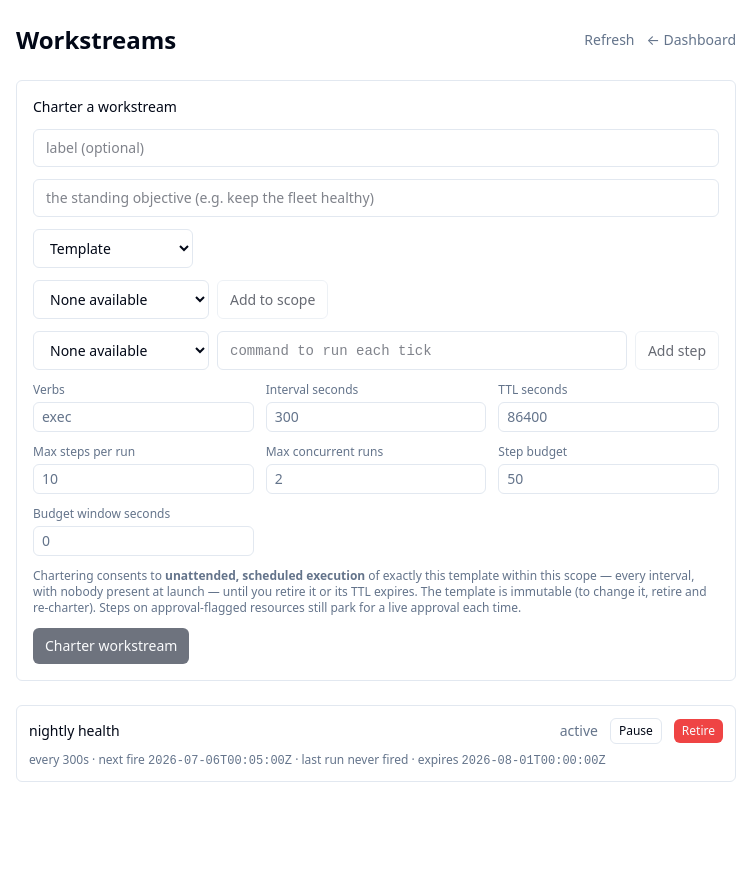
Scenario: Workstreams route › renders the adaptive charter's kind badge + composer, and its plan-request history (open/submitted/expired)
The image size is (753, 893).
Step 1. Click the button "nightly health" → (74, 731), box [29,721,120,741]
(page scrolled)
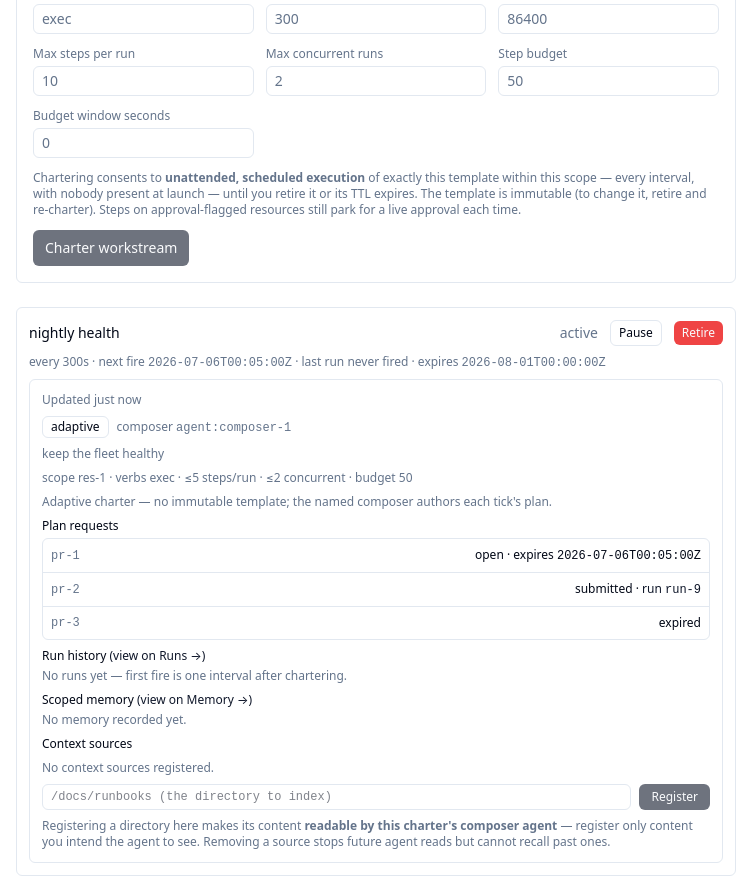
Check: the text "adaptive" is shown, box [42,416,108,438]
Check: the text "agent:composer-1" is shown, box [176,420,291,434]
Check: the text "Plan requests" is shown, box [42,517,118,534]
